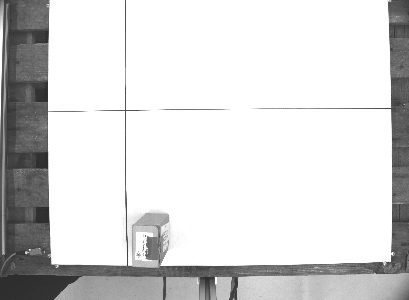b6: (128, 209, 171, 270)
